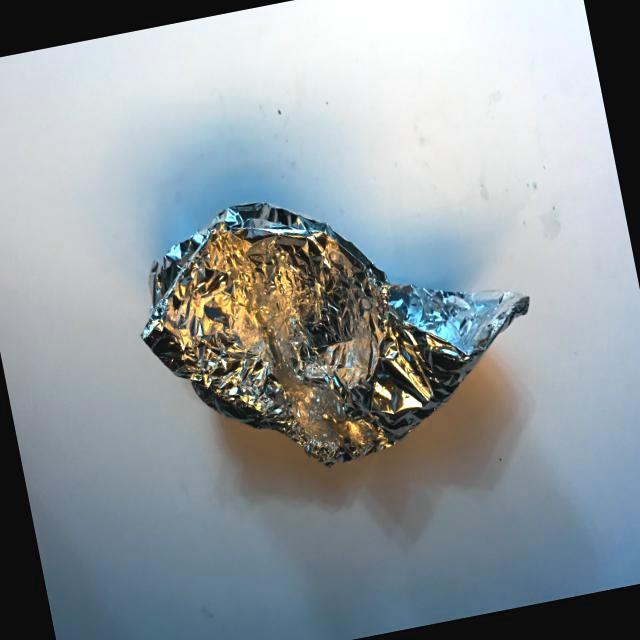metal: (94, 94, 584, 538)
